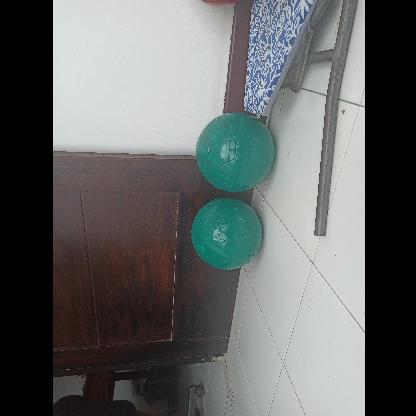green_ball: (194, 112, 274, 192), (188, 197, 262, 271)
